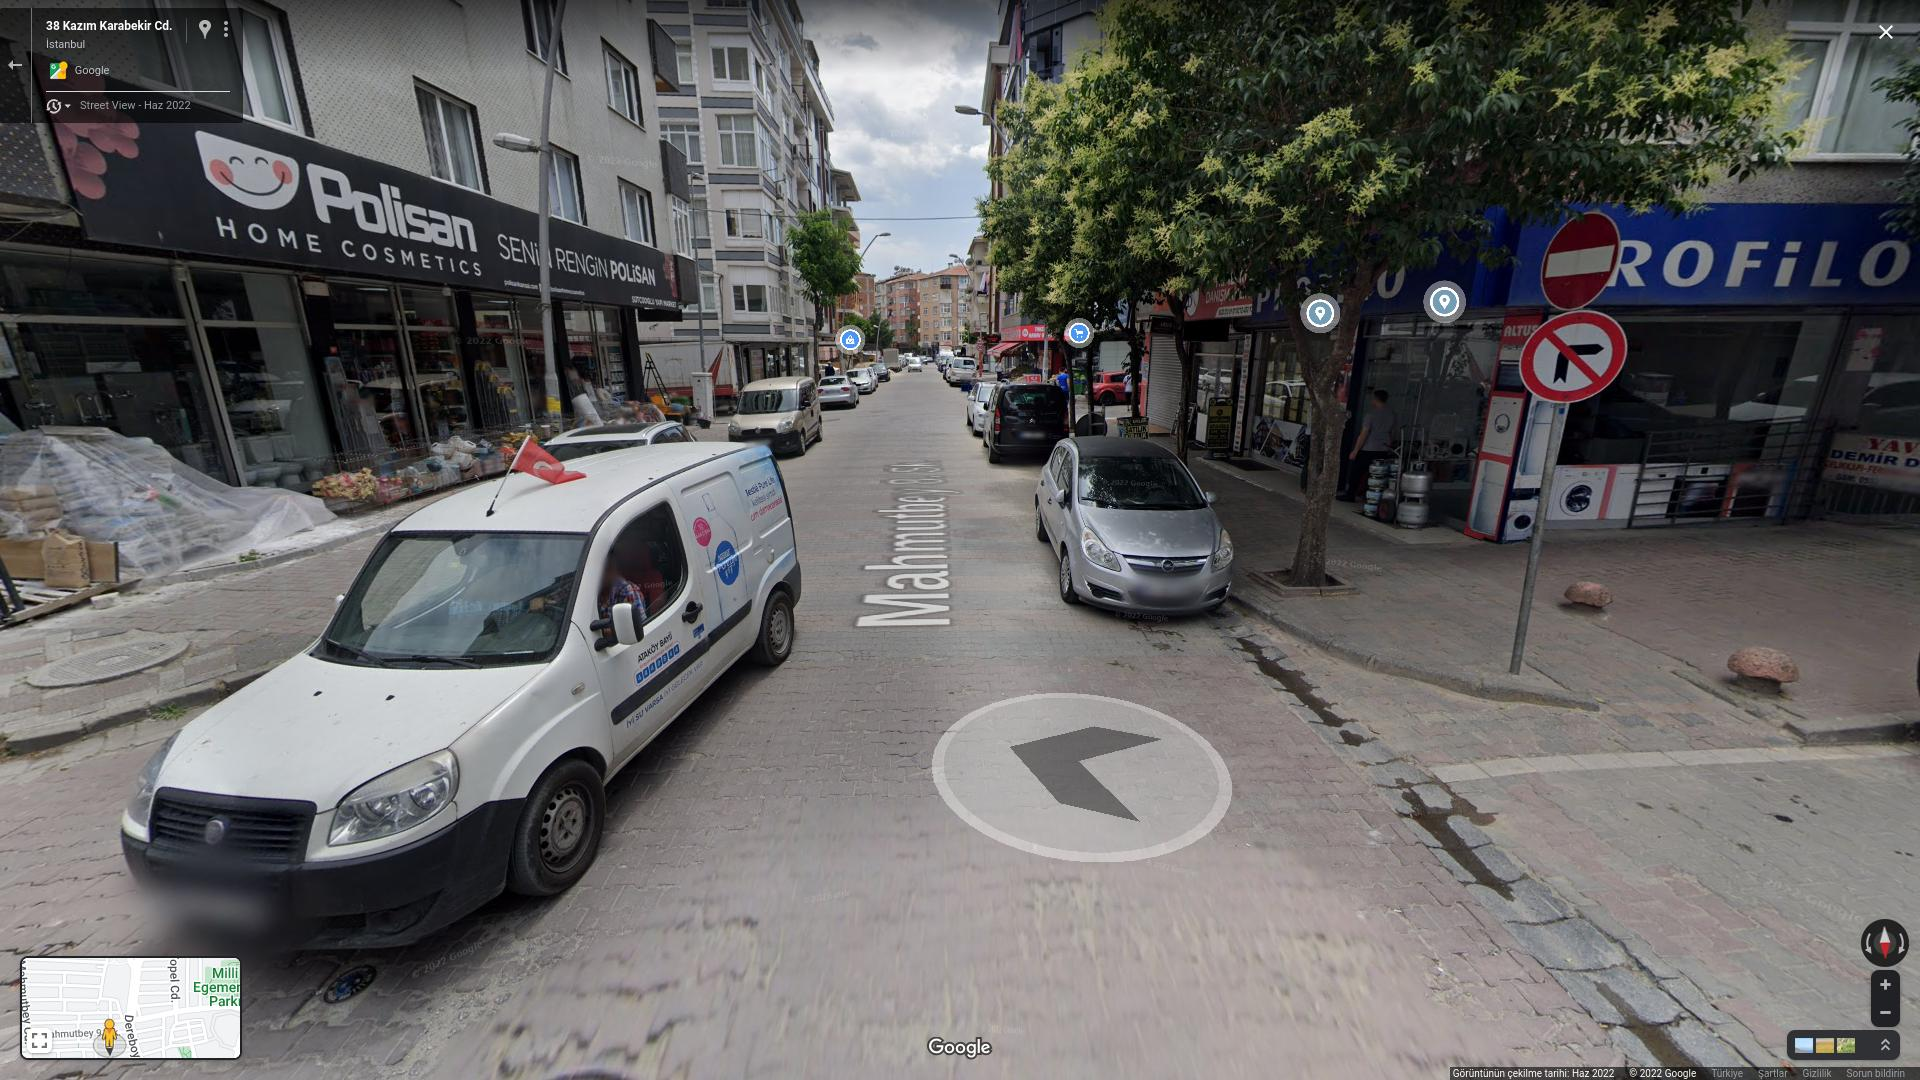rightturnsareforbidden: (1519, 305, 1627, 401)
